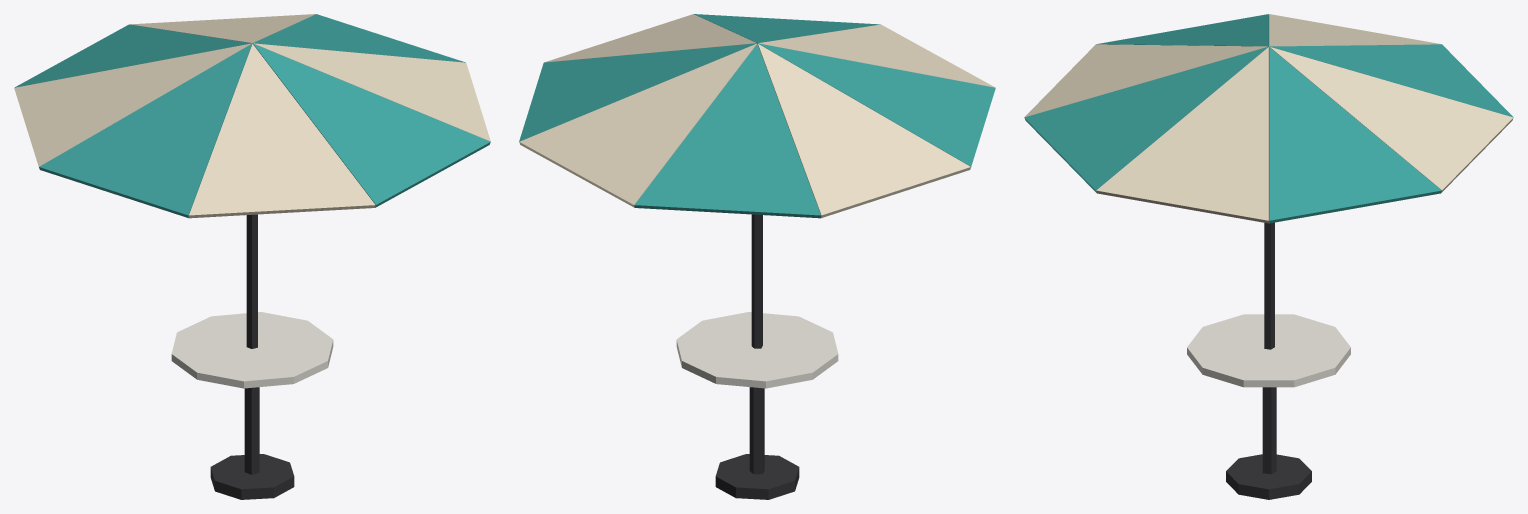
The model's file is cafe_umbrella.glb.
3 renders of one model, left to right at view 1: azimuth 30°, elevation 25°; view 2: azimuth 150°, elevation 25°; view 3: azimuth 270°, elevation 25°, orthographic.
Parts seen in each view (by area): view 1: cafe_umbrella; view 2: cafe_umbrella; view 3: cafe_umbrella.
Boxes of the visible parts, x1,y1,x2,y2 form: cafe_umbrella: (14,14,490,499); cafe_umbrella: (519,14,995,499); cafe_umbrella: (1024,14,1513,499).
Size of the model in its own units: 2.51 by 2.46 by 2.51.
